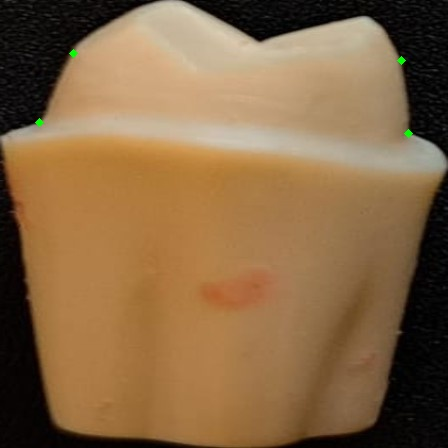coin_1: (408, 133, 428, 153)
coin_2: (401, 60, 421, 80)
coin_3: (39, 122, 59, 142)
coin_4: (73, 53, 93, 73)
